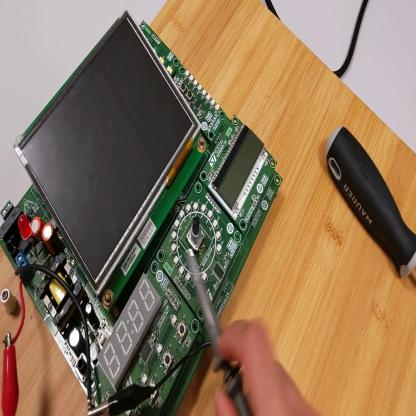hand: (212, 320, 326, 415)
low voltage board: (1, 10, 284, 416)
oscilloscope probe tip: (190, 250, 255, 416)
screwdriver-: (324, 126, 416, 282)
working area: (2, 4, 416, 412)
